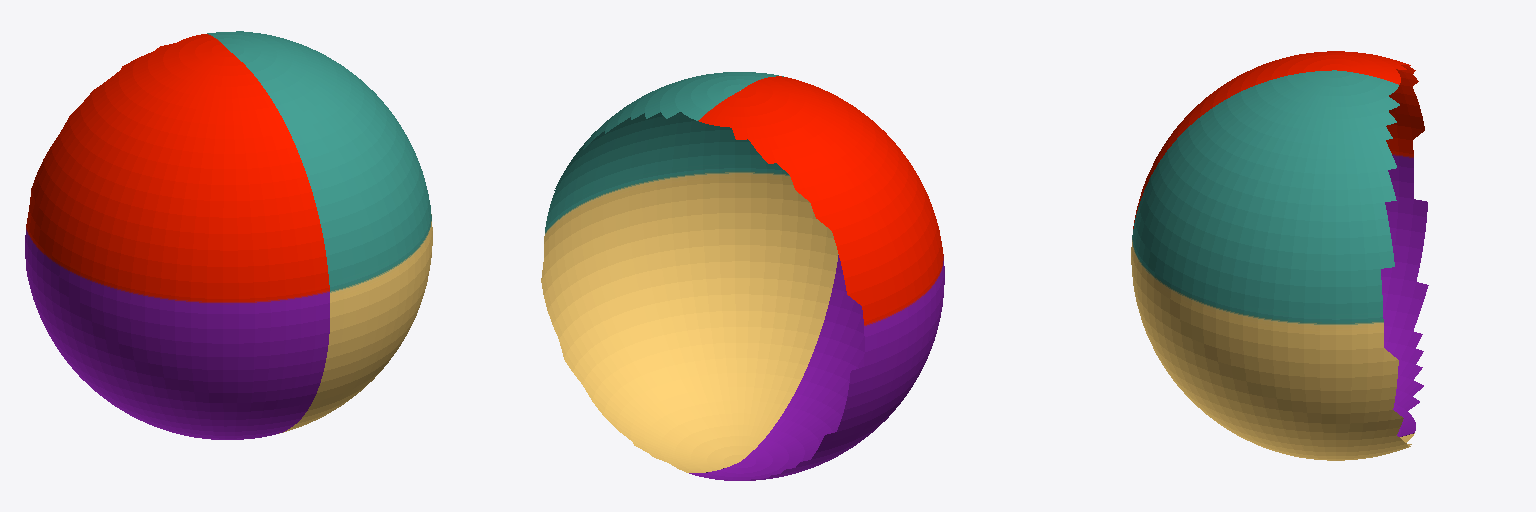
3 views of the same model, side by side, from view 1: azimuth 30°, elevation 25°; view 2: azimuth 150°, elevation 25°; view 3: azimuth 270°, elevation 25° (orthographic).
Bounding box in the file's own units: 2 × 2 × 1.45.
Materials: 1 (1 with a texture image).